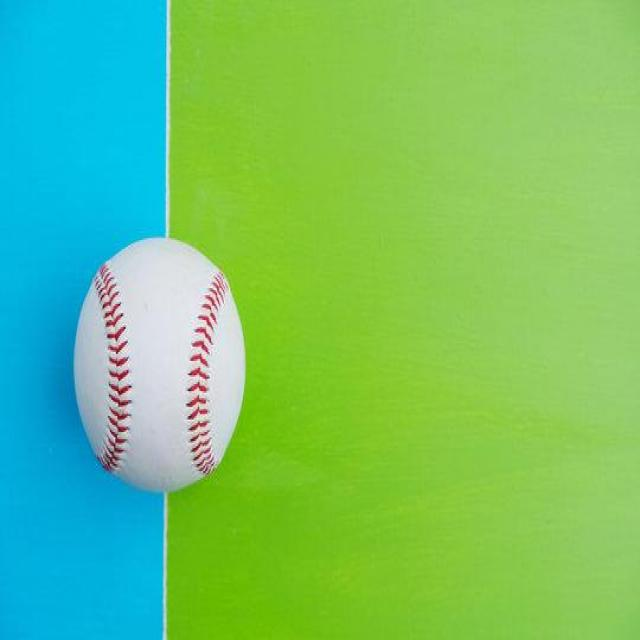baseball: (72, 232, 246, 492)
